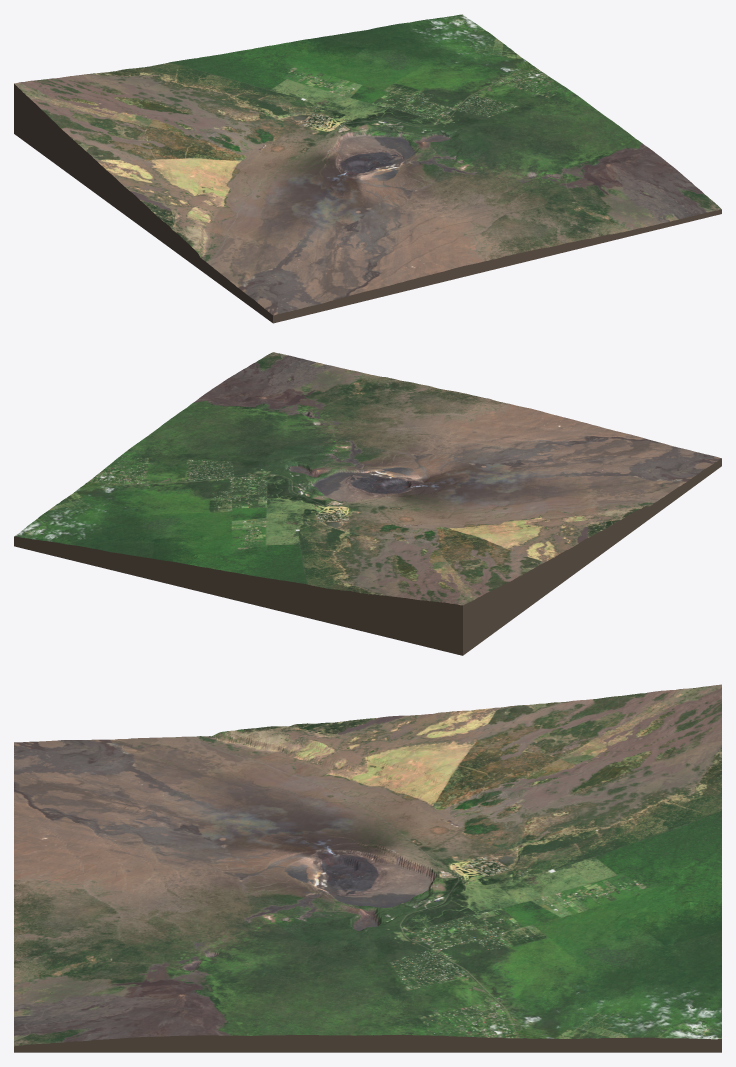
3 views of the same model, one above another, from view 1: azimuth 30°, elevation 25°; view 2: azimuth 150°, elevation 25°; view 3: azimuth 270°, elevation 25° (orthographic). The views are drawn at different scales.
Visible parts, largest first — view 1: terrain; view 2: terrain; view 3: terrain.
Boxes of the visible parts, x1=… form: terrain: x1=14, y1=14, x2=721, y2=323; terrain: x1=14, y1=352, x2=721, y2=655; terrain: x1=14, y1=684, x2=721, y2=1052.
Bounding box in the file's own units: 19980 × 2144 × 19980.
Materials: 1 (1 with a texture image).
